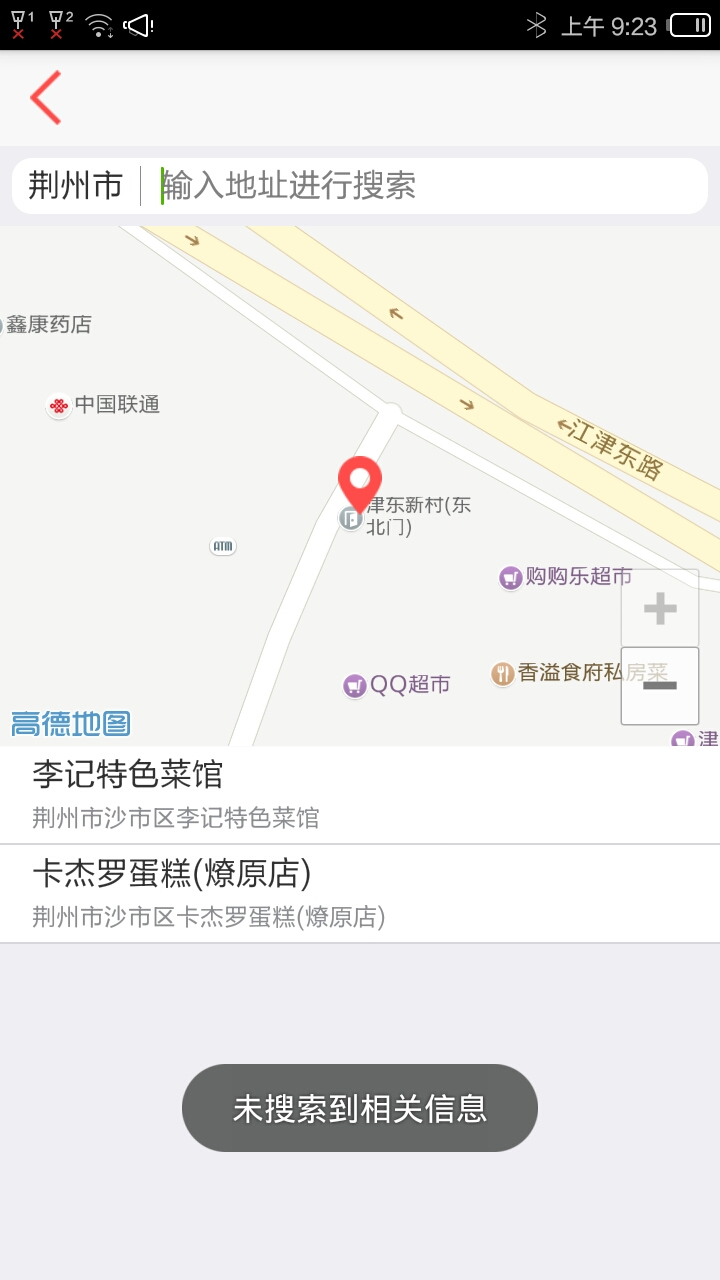alert: (181, 1061, 541, 1157)
imgbutton: (614, 564, 705, 653), (618, 646, 706, 731)
textview: (1, 734, 720, 949), (6, 149, 717, 217)
